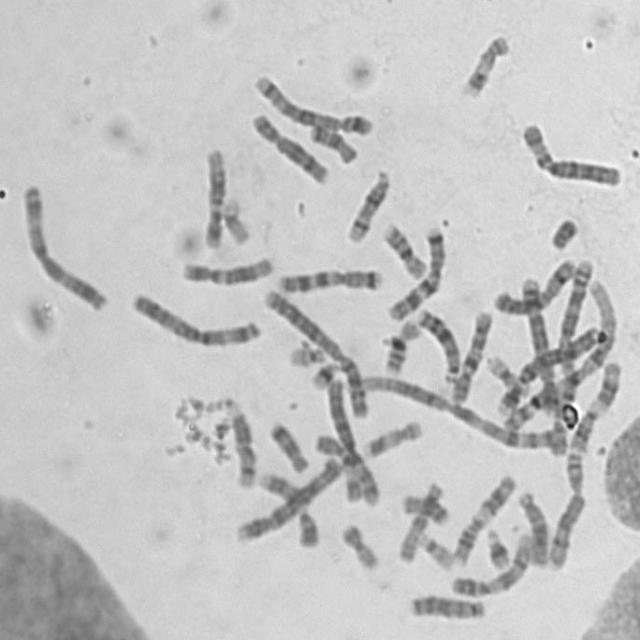A1: (492, 271, 622, 430), (349, 366, 573, 454)
A2: (256, 280, 372, 421), (545, 253, 593, 422)
A3: (14, 175, 110, 311), (123, 283, 264, 349)
B4: (491, 316, 609, 424), (228, 450, 344, 545)
B5: (247, 66, 376, 138), (516, 270, 562, 420)
C10: (308, 426, 383, 506), (443, 302, 495, 406)
C11: (448, 467, 518, 567), (564, 353, 625, 454)
C12: (175, 248, 276, 286), (196, 140, 228, 250)
C6: (318, 370, 383, 508), (514, 114, 625, 189)
C7: (381, 218, 447, 322), (270, 260, 384, 294)
C8: (245, 105, 331, 185), (542, 442, 588, 571)
C9: (445, 524, 536, 600), (252, 465, 320, 549)
D13: (411, 299, 462, 383), (403, 586, 488, 623)
D14: (340, 162, 393, 244), (220, 396, 258, 491)
D15: (391, 473, 446, 565), (512, 484, 552, 568)
E16: (376, 214, 430, 280), (377, 313, 422, 375)
E17: (455, 26, 512, 100), (356, 412, 425, 459)
E18: (262, 414, 312, 473), (303, 115, 360, 165)
F19: (480, 348, 532, 400), (216, 189, 253, 246)
F20: (334, 516, 382, 571), (396, 487, 452, 527)
G21: (479, 520, 514, 571), (304, 354, 342, 390)
G22: (412, 525, 456, 571), (282, 334, 328, 368)
X: (487, 250, 578, 316)
Y: (544, 209, 581, 251)
